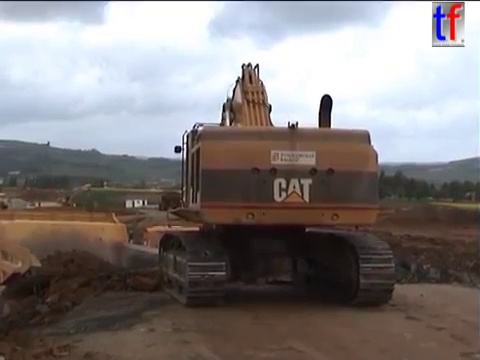excavator: (154, 59, 399, 309), (55, 182, 94, 208)
truck: (1, 206, 196, 337), (126, 221, 241, 290), (1, 190, 10, 210)
